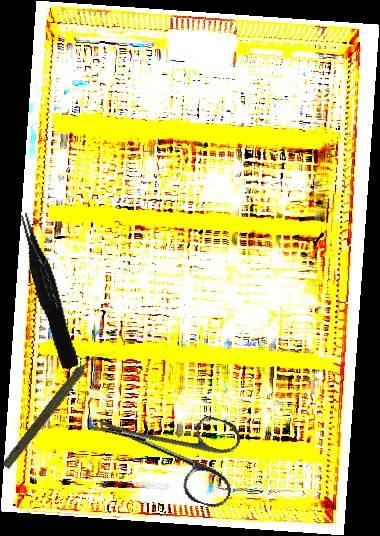Handpiece: (0, 344, 106, 473)
Iris Scissors: (75, 383, 251, 511)
Tissue Forceps: (16, 209, 80, 372)
